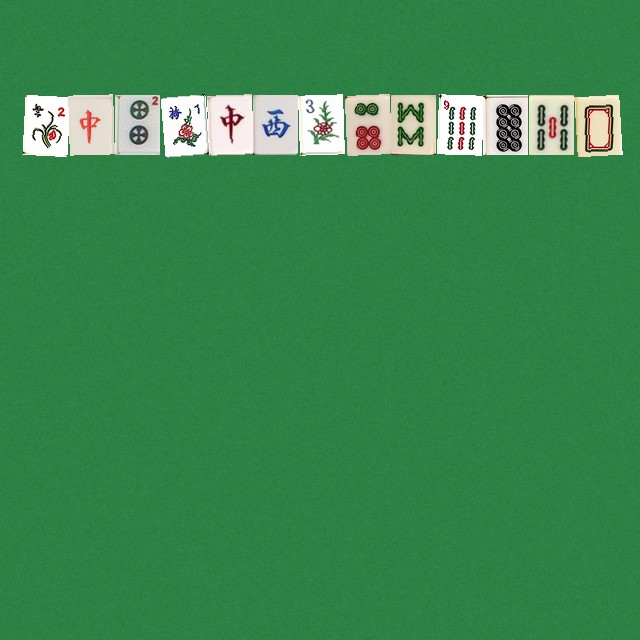tile: (22, 94, 67, 154), (68, 94, 113, 154), (114, 94, 159, 154), (160, 94, 205, 154), (206, 94, 251, 154), (252, 94, 297, 154), (298, 94, 343, 154), (344, 94, 389, 154), (390, 94, 435, 154), (436, 94, 481, 154), (482, 94, 527, 154), (528, 94, 573, 154), (574, 94, 619, 154)
